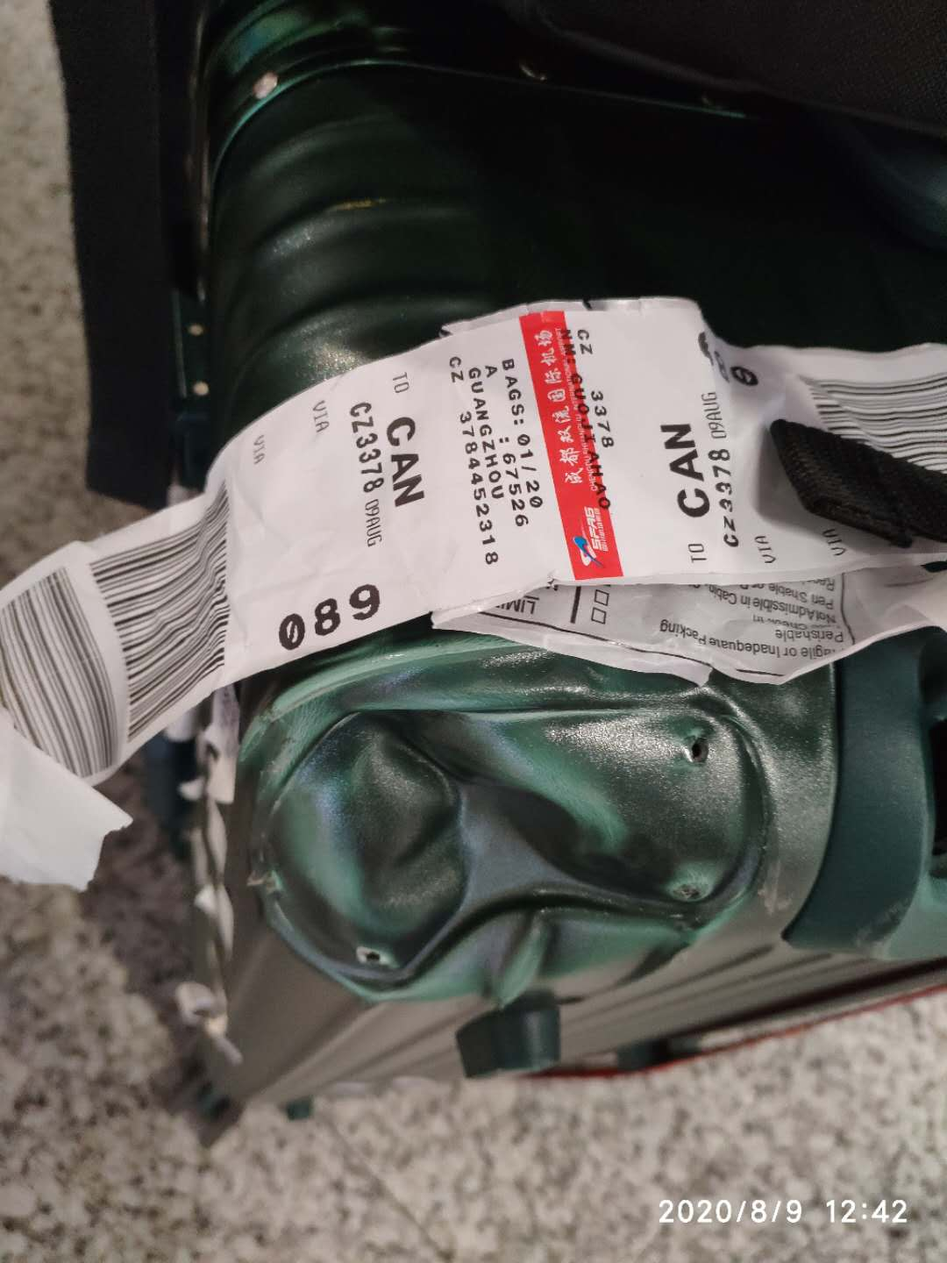hollow: (247, 682, 775, 1007)
